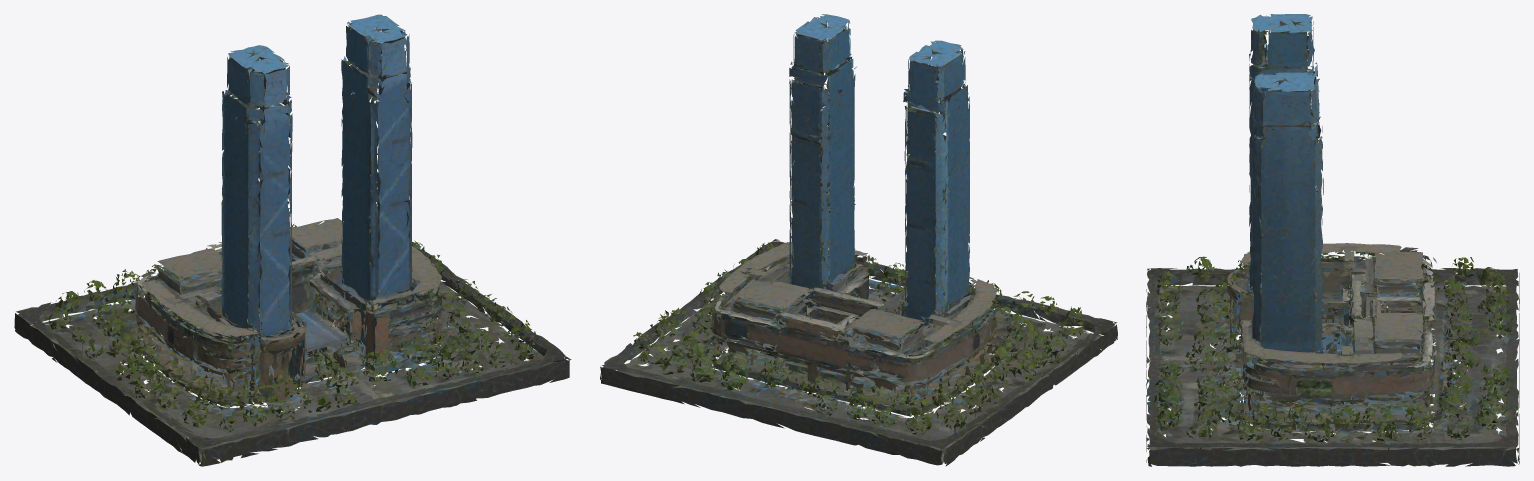
File: dongwu-mobile.glb
The picture shows the model from 3 angles, left to right: view 1: azimuth 30°, elevation 25°; view 2: azimuth 150°, elevation 25°; view 3: azimuth 270°, elevation 25°; orthographic projection. The views are drawn at different scales.
Visible parts, largest first — view 1: dongwu_lux3d; view 2: dongwu_lux3d; view 3: dongwu_lux3d.
Part boxes in pixels (x1,y1,x2,y2): dongwu_lux3d: (14, 14, 571, 466); dongwu_lux3d: (600, 14, 1117, 466); dongwu_lux3d: (1146, 14, 1519, 466).
Size of the model in its own units: 6.02 by 5.15 by 5.25.
1 material, 1 textured.
